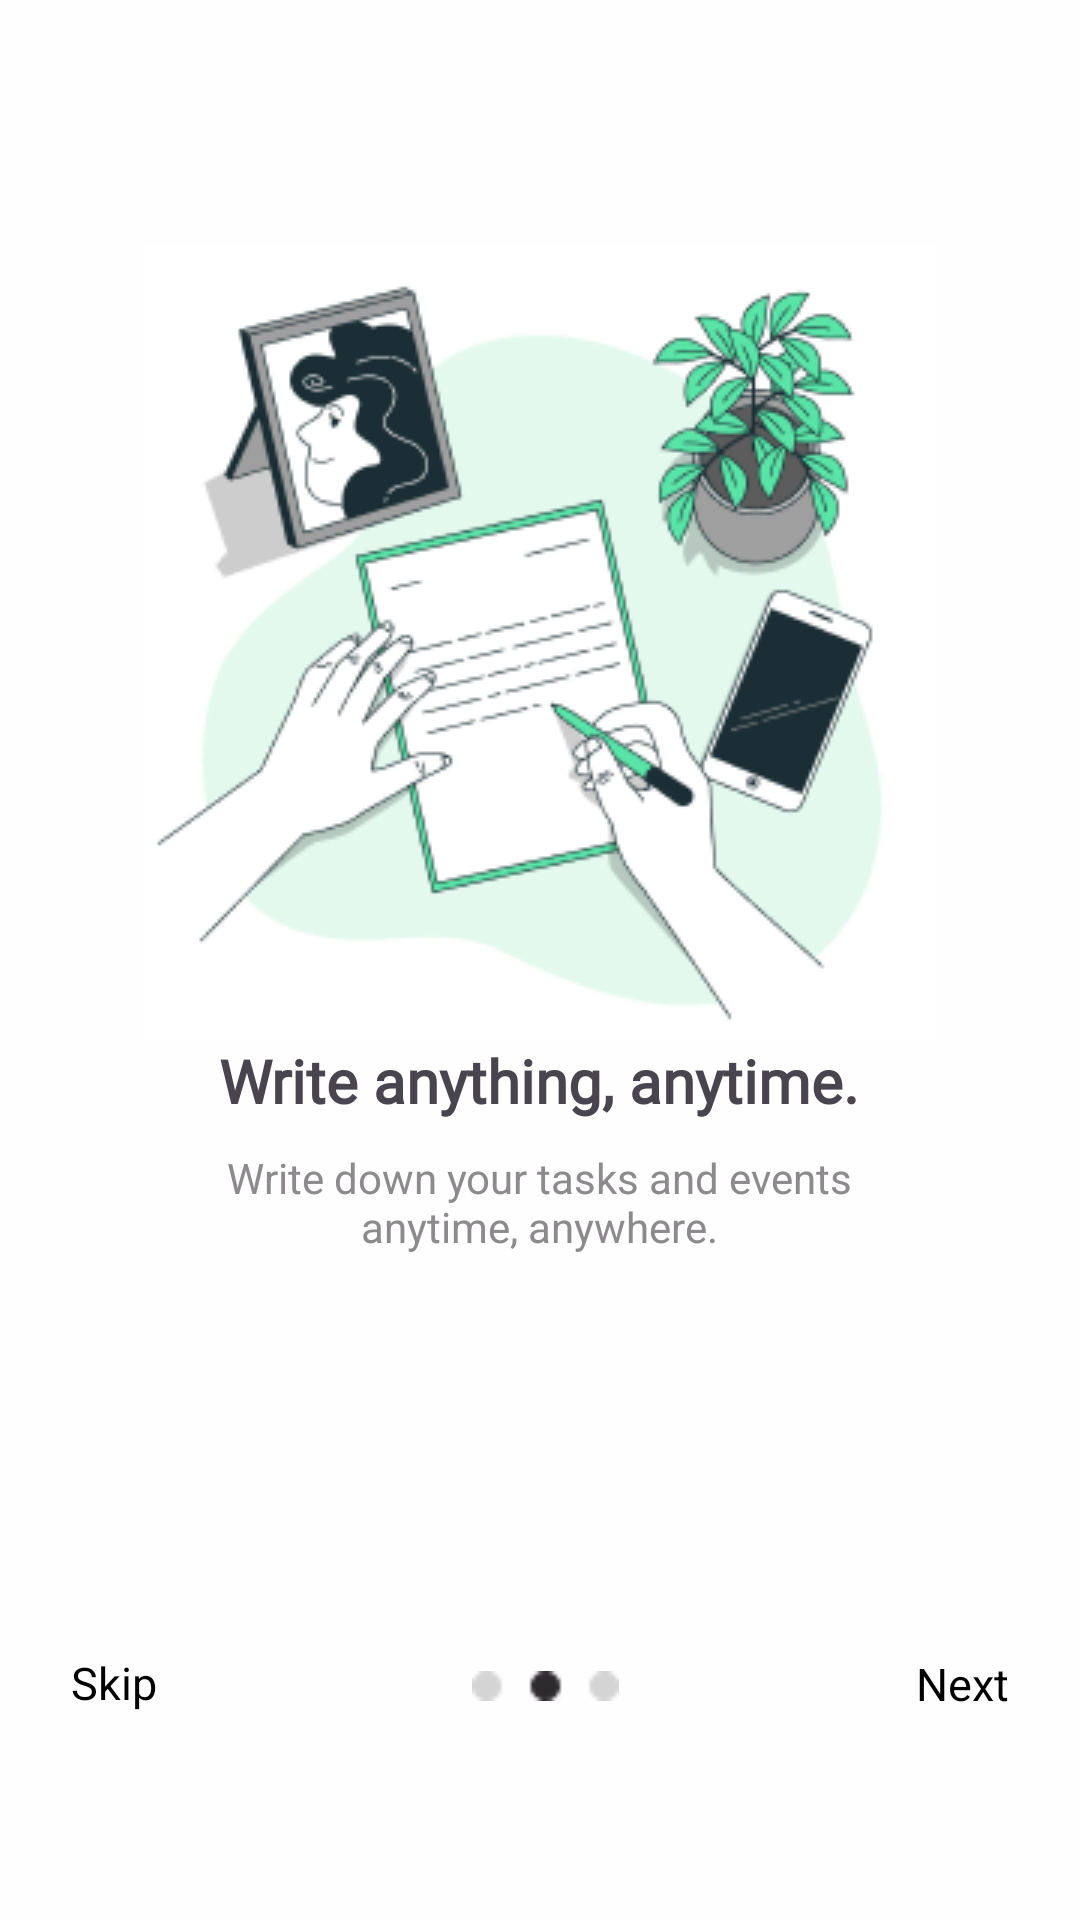

Named icons in this screenshot (1080px x 1920px) and their bounding boxes, (x1, y1, x2, y2):
dot: (472, 1671, 619, 1701)
